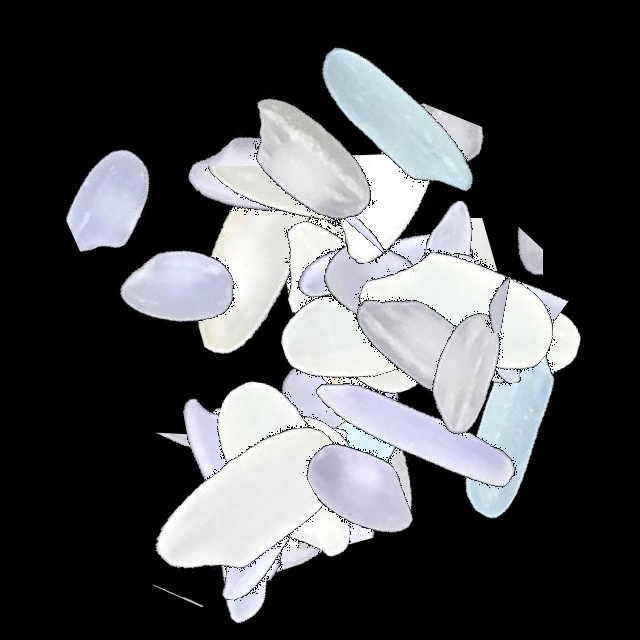Broken: (356, 190, 606, 360), (60, 63, 228, 313), (281, 166, 449, 416), (249, 390, 410, 640), (376, 290, 626, 444), (299, 218, 549, 370), (277, 112, 428, 362), (147, 83, 298, 333), (340, 56, 490, 306), (197, 410, 447, 549), (268, 154, 518, 291), (144, 166, 394, 282), (288, 19, 404, 269), (248, 254, 498, 367), (87, 504, 337, 607), (334, 236, 584, 333), (242, 321, 338, 571), (447, 146, 543, 396), (115, 355, 209, 605), (264, 339, 347, 589), (242, 400, 492, 480), (358, 357, 608, 435), (202, 451, 452, 526)
Full: (261, 344, 511, 594), (222, 158, 472, 408), (216, 269, 466, 519), (105, 390, 355, 640), (191, 353, 441, 603), (247, 157, 497, 407), (387, 299, 637, 549), (207, 175, 457, 425), (164, 357, 414, 607), (127, 137, 377, 387), (227, 183, 477, 433), (259, 142, 509, 392), (109, 362, 359, 612), (319, 149, 569, 399), (157, 390, 407, 640), (294, 306, 544, 556), (250, 160, 500, 410), (53, 164, 303, 414), (357, 194, 607, 444), (335, 186, 585, 436), (298, 223, 548, 473), (339, 247, 589, 497), (159, 341, 409, 591), (129, 378, 379, 628), (270, 0, 520, 250), (233, 367, 483, 617), (180, 36, 430, 286)
